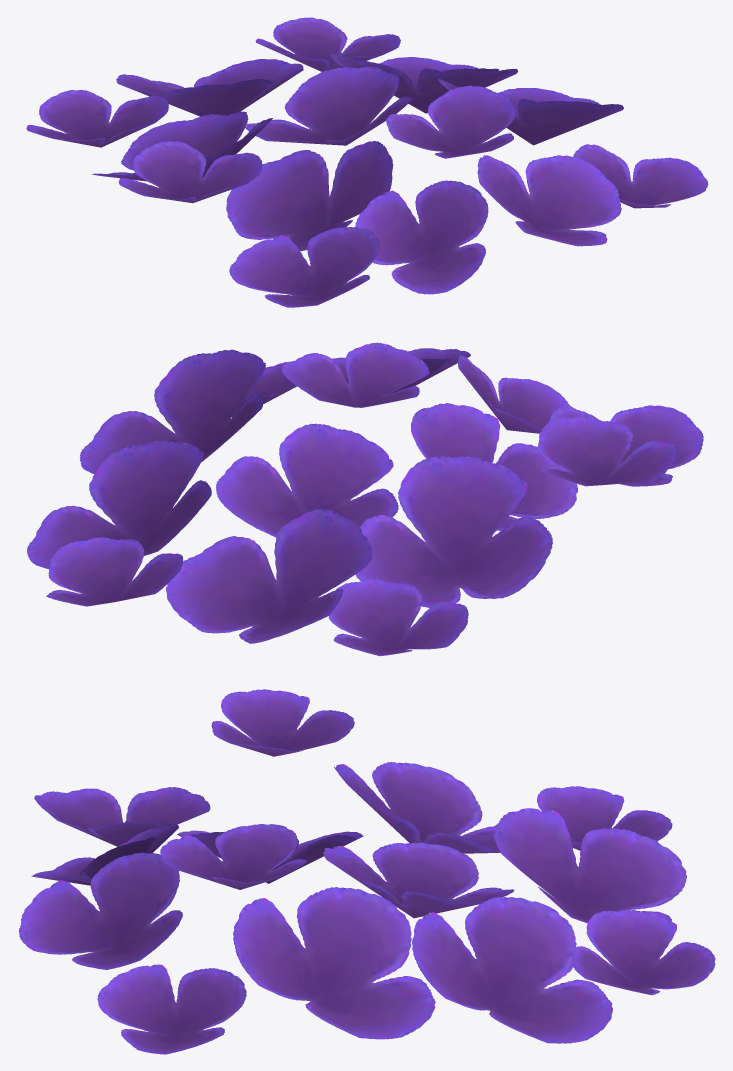
File: plante-7-grande.glb
3 renders of one model, top to bottom at view 1: azimuth 30°, elevation 25°; view 2: azimuth 150°, elevation 25°; view 3: azimuth 270°, elevation 25°, orthographic. The views are drawn at different scales.
Parts seen in each view (by area): view 1: Plant_7_Big; view 2: Plant_7_Big; view 3: Plant_7_Big.
Part boxes in pixels (<box>): Plant_7_Big: <box>26,17,708,307</box>; Plant_7_Big: <box>27,342,703,656</box>; Plant_7_Big: <box>18,689,715,1054</box>.
Size of the model in its own units: 1.31 by 0.2534 by 1.36.
1 material, 1 textured.
